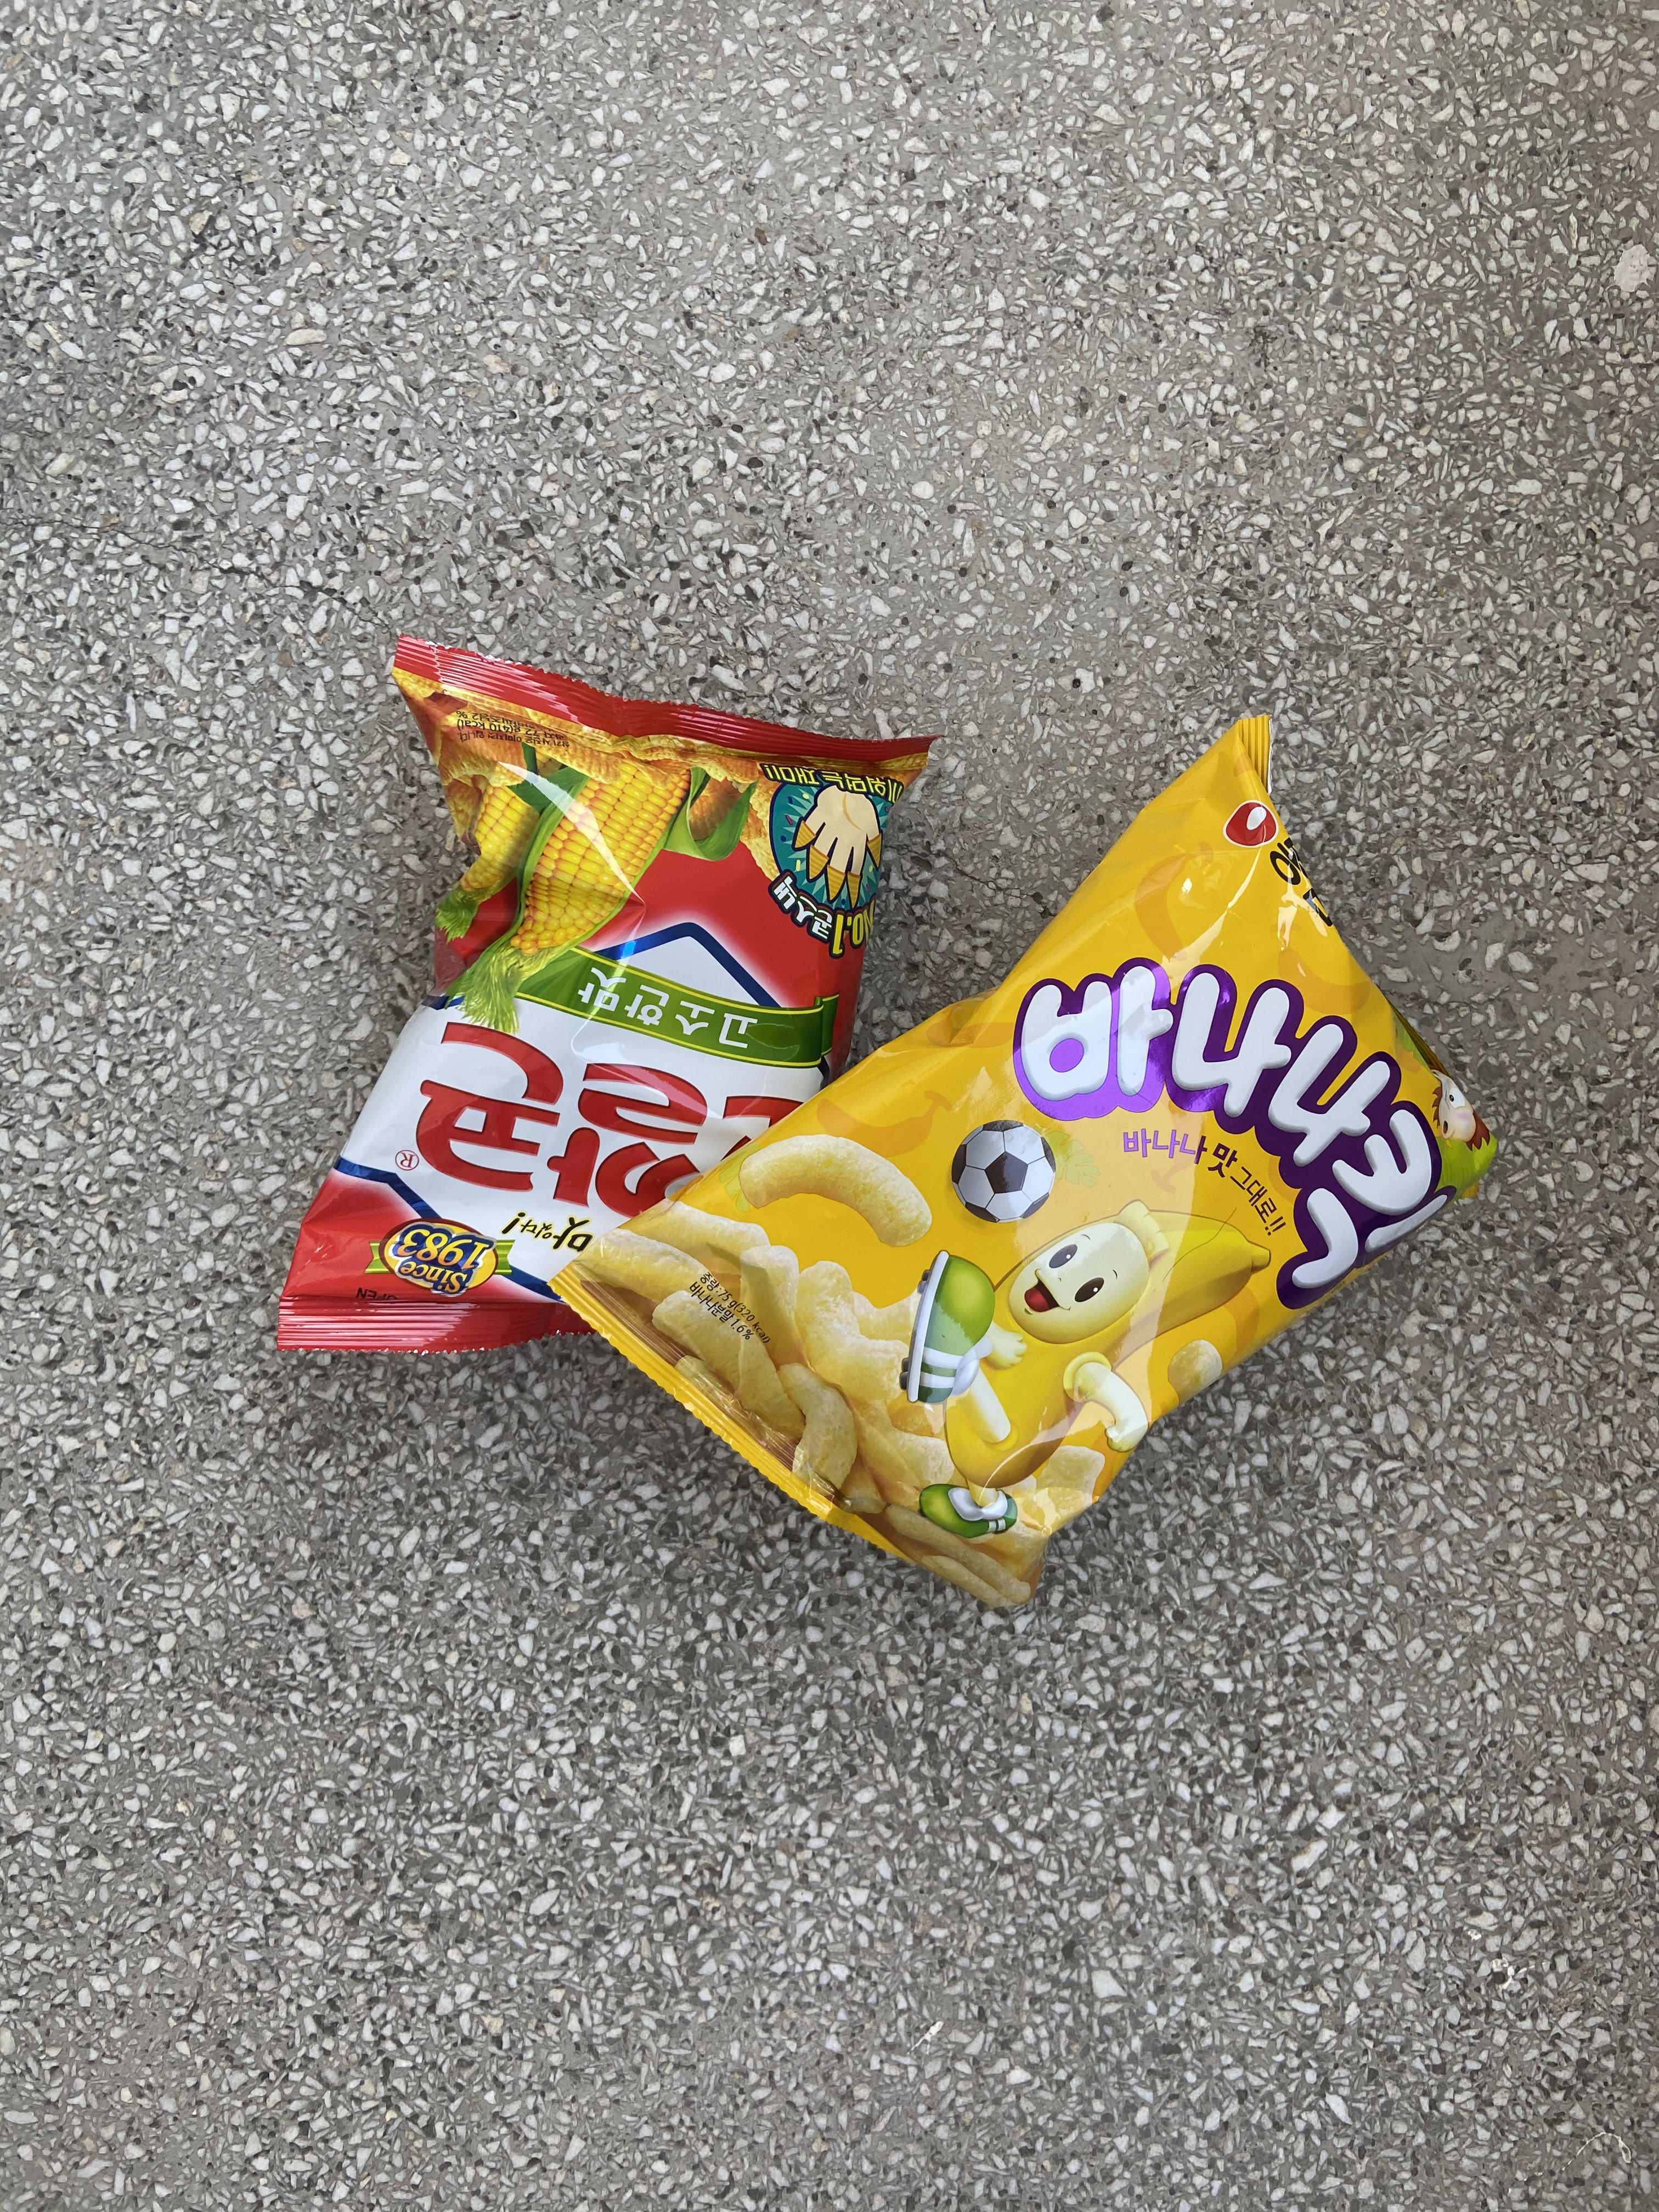banana: (538, 700, 1499, 1620)
ggoggalcon: (251, 613, 955, 1397)
